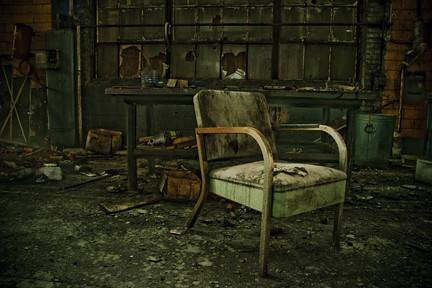chair: (185, 89, 349, 278)
